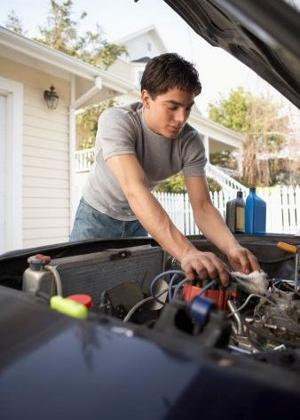person: (71, 51, 263, 288)
